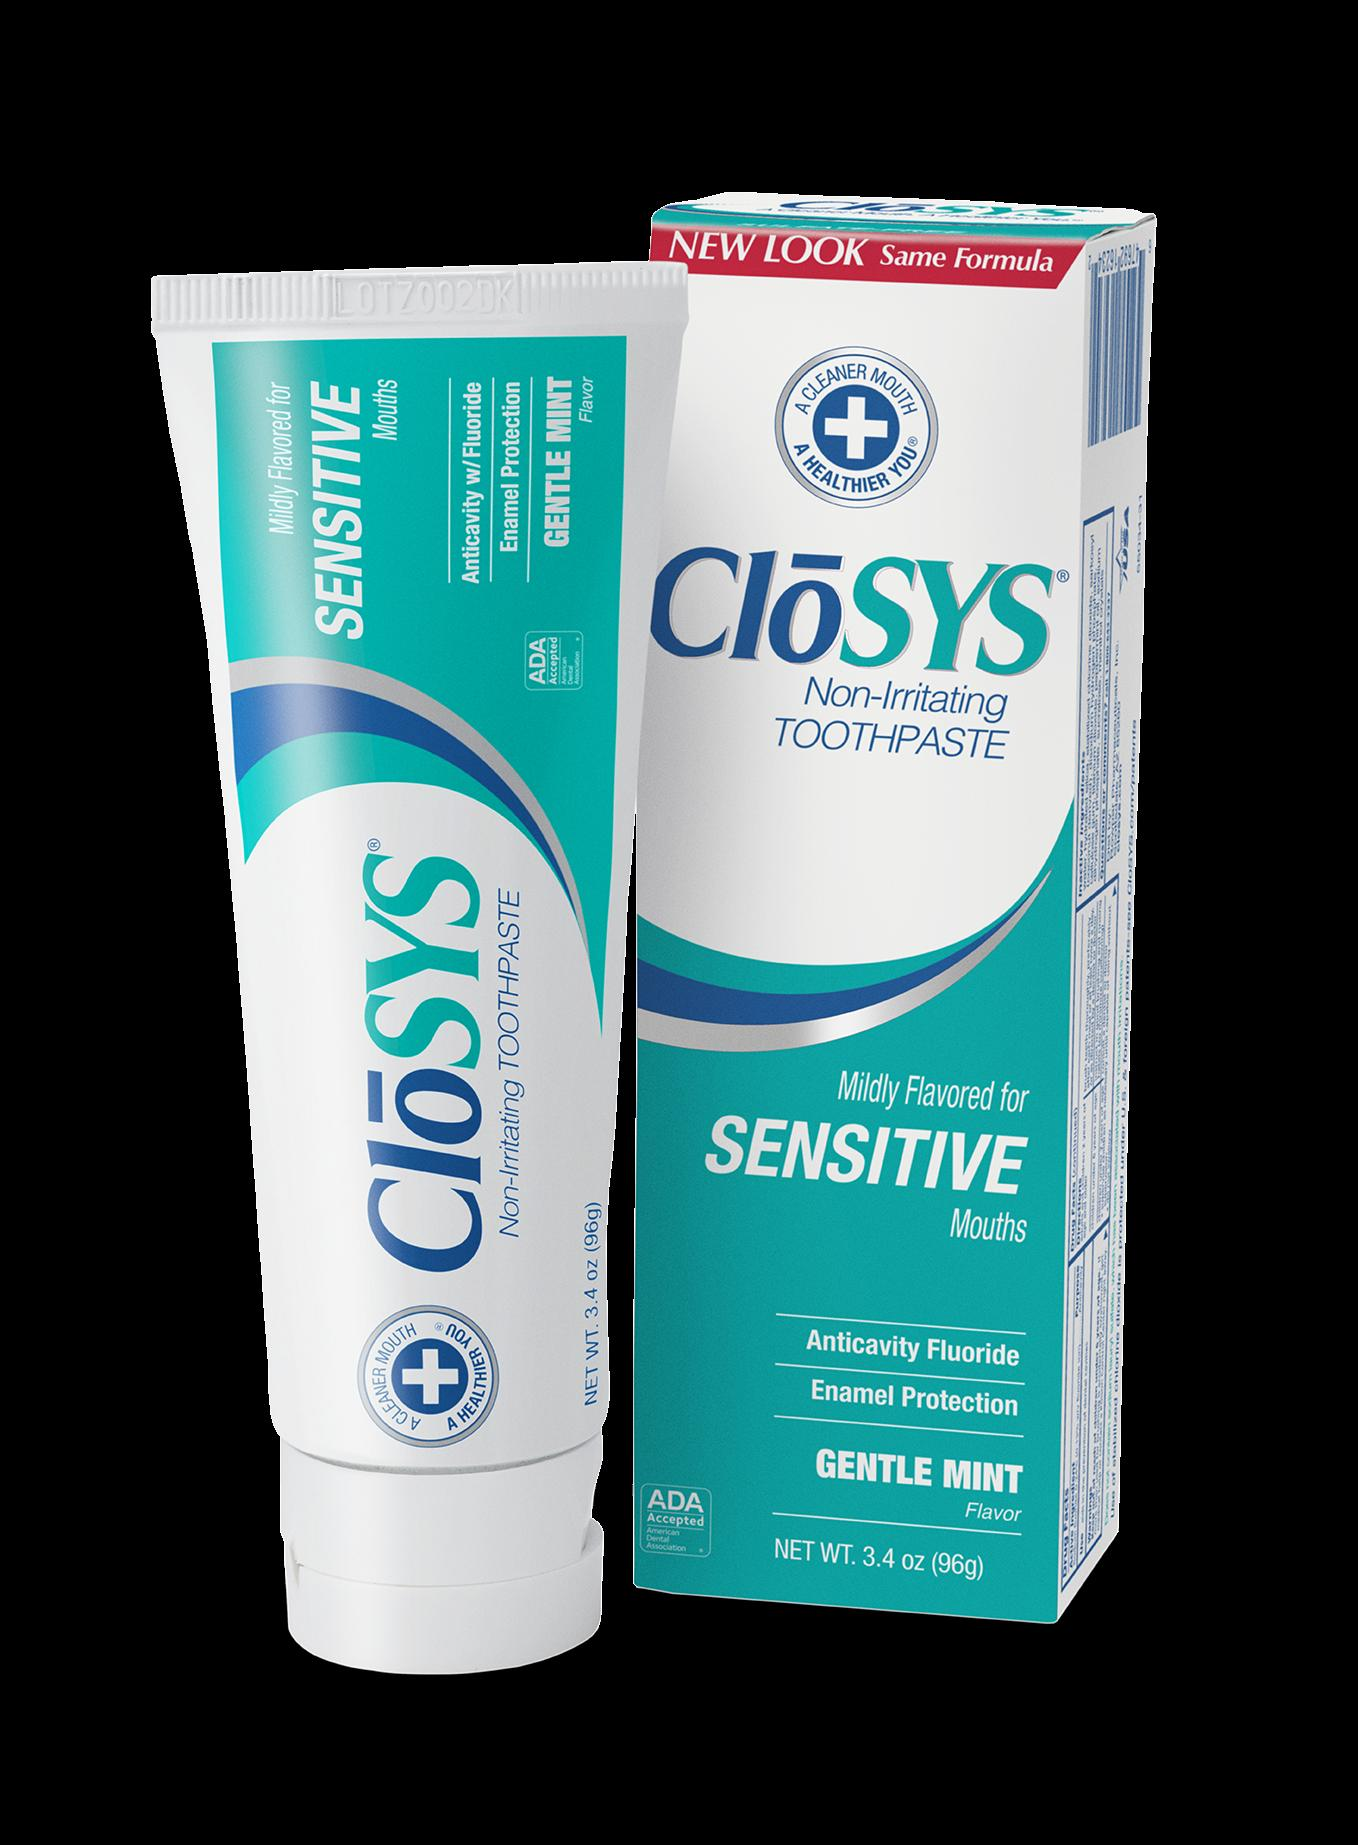toothpaste: (613, 99, 1215, 1715), (105, 215, 708, 1705)
